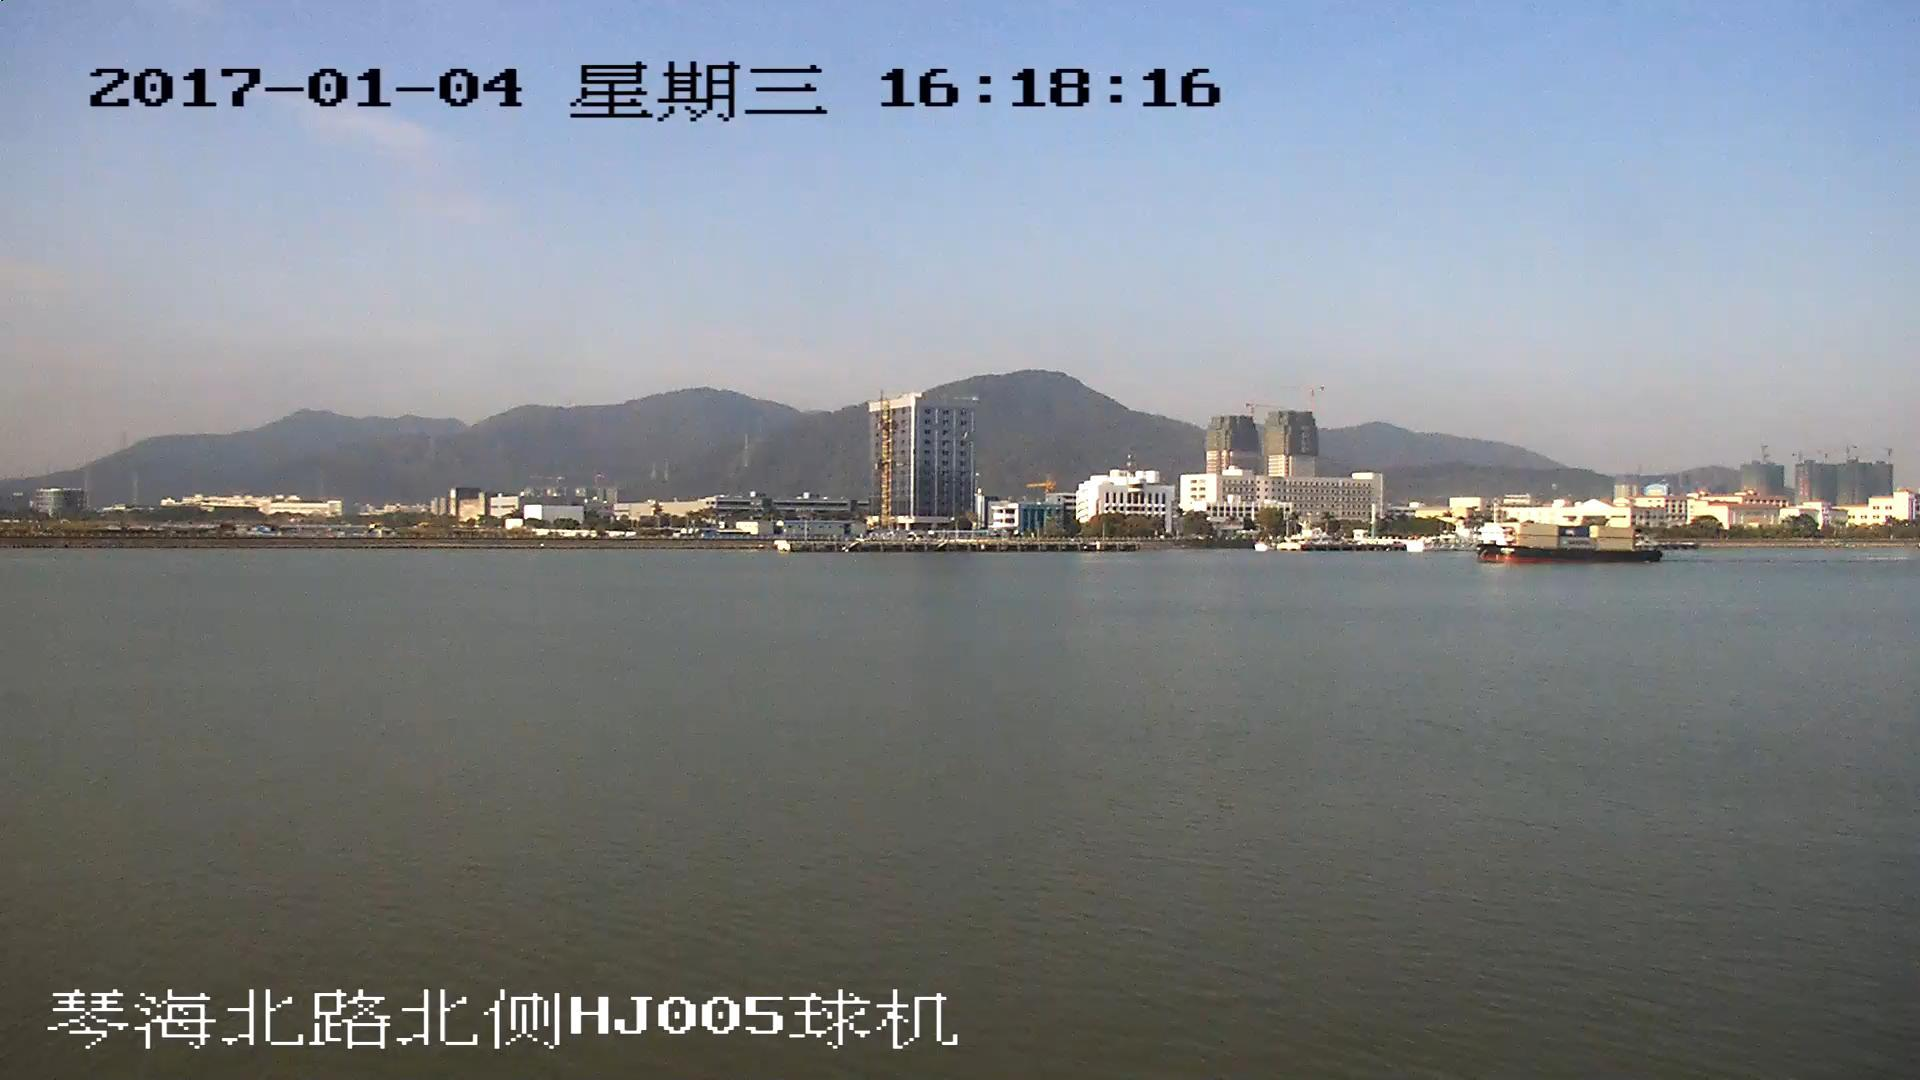Ship: (1474, 524, 1659, 568)
